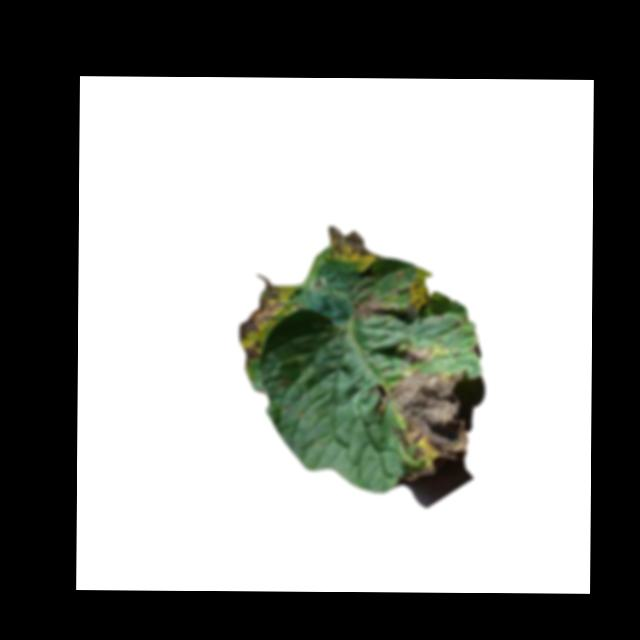Early_blight: (384, 369, 468, 483), (238, 284, 304, 362), (325, 224, 374, 267), (355, 294, 384, 322), (409, 276, 430, 309), (400, 346, 435, 363)
